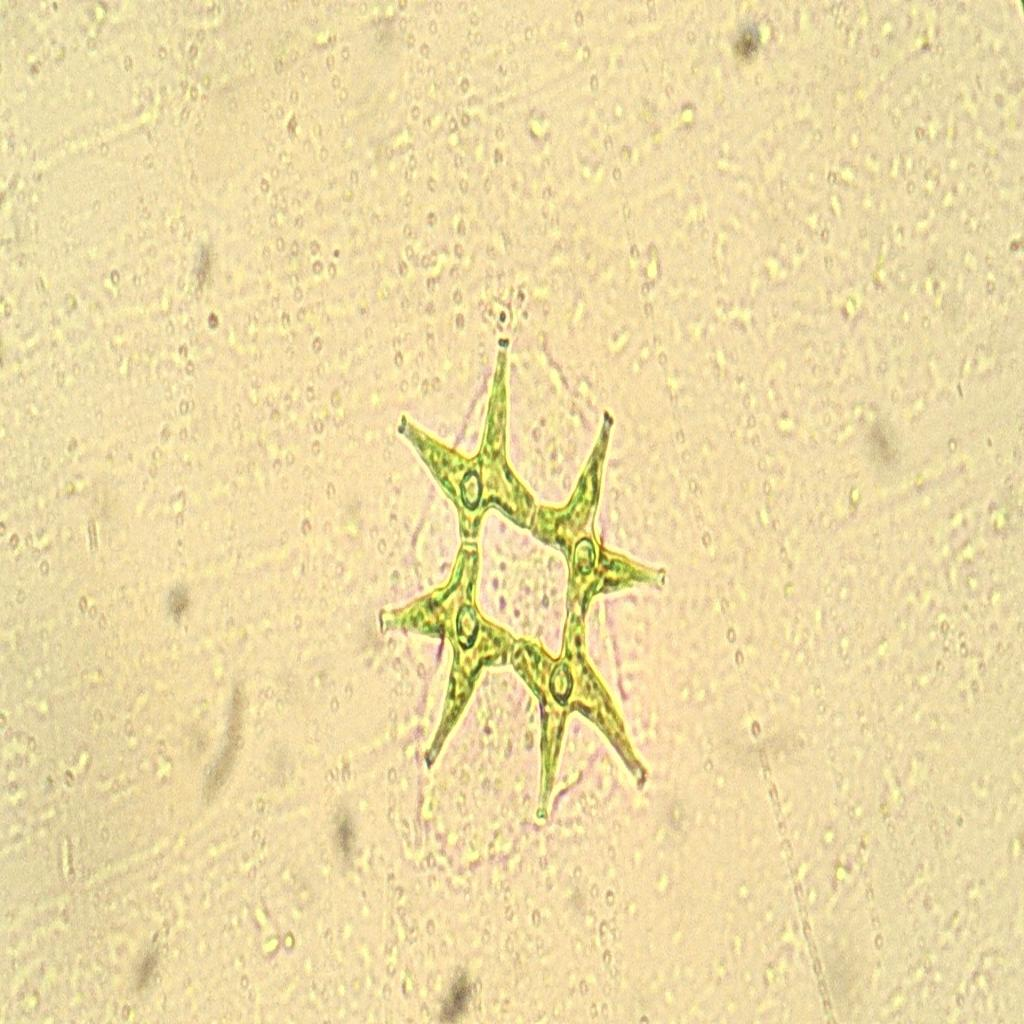Pediastrum_75O: (344, 301, 694, 853)
